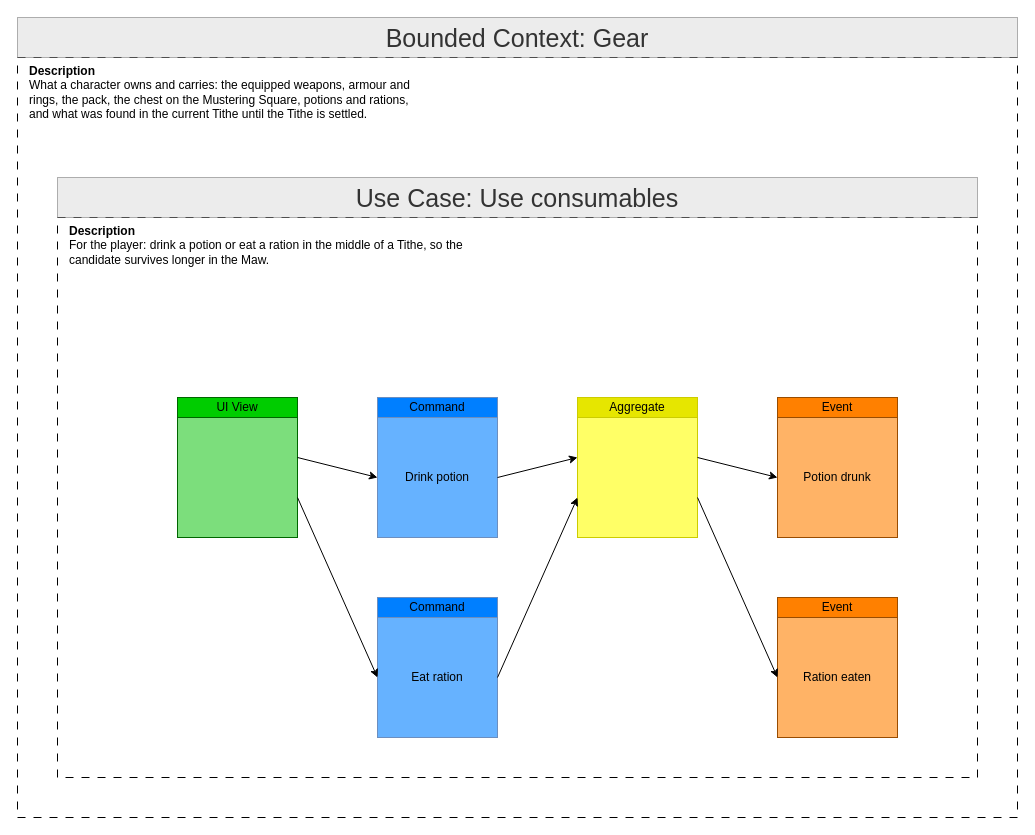
This 1035x835 diagram has some shape labels left out. Here are the shapes that lost their labels. From the top down, the centre of each, then its label:
At point 237,477: "Depth Player".
At point 637,477: "Inventory Potions Rations".
